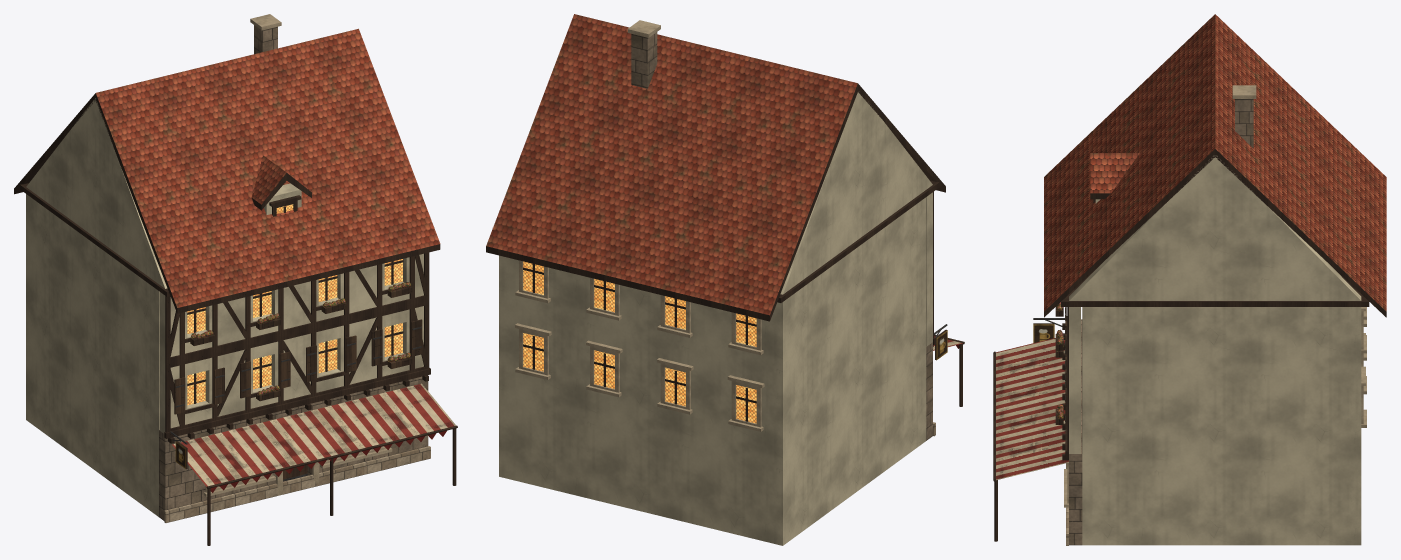
File: tavern.gltf
The picture shows the model from 3 angles, left to right: view 1: azimuth 30°, elevation 25°; view 2: azimuth 150°, elevation 25°; view 3: azimuth 270°, elevation 25°; orthographic projection. The views are drawn at different scales.
Visible parts, largest first — view 1: tavern_mesh, INT_window_tavern_2, INT_window_tavern_0, INT_window_tavern_3, INT_window_tavern_1; view 2: tavern_mesh; view 3: tavern_mesh.
Part boxes in pixels (<box>): tavern_mesh: <box>14,14,457,545</box>; INT_window_tavern_2: <box>318,339,337,372</box>; INT_window_tavern_0: <box>187,371,206,405</box>; INT_window_tavern_3: <box>384,323,403,356</box>; INT_window_tavern_1: <box>253,355,271,389</box>; tavern_mesh: <box>486,14,964,545</box>; tavern_mesh: <box>993,14,1386,545</box>.
Size of what is drawn, in the model's own units: 12.2 by 17.23 by 14.8.
Materials: 16 (16 with a texture image).
